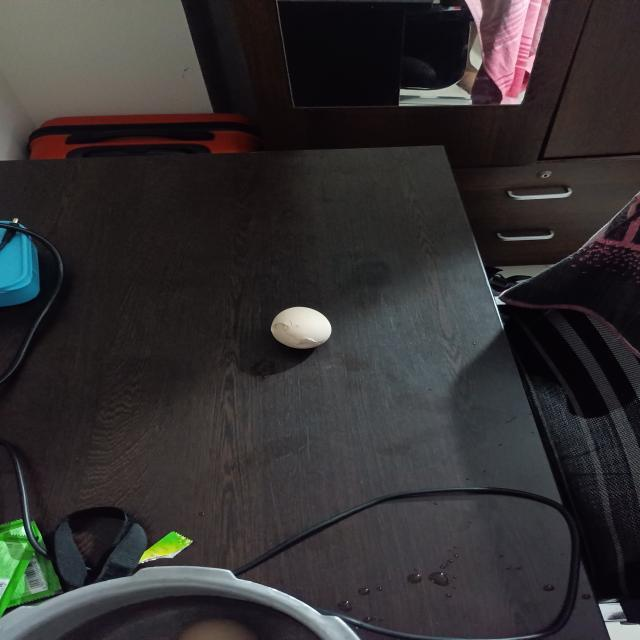biodegradable: (268, 306, 332, 350)
